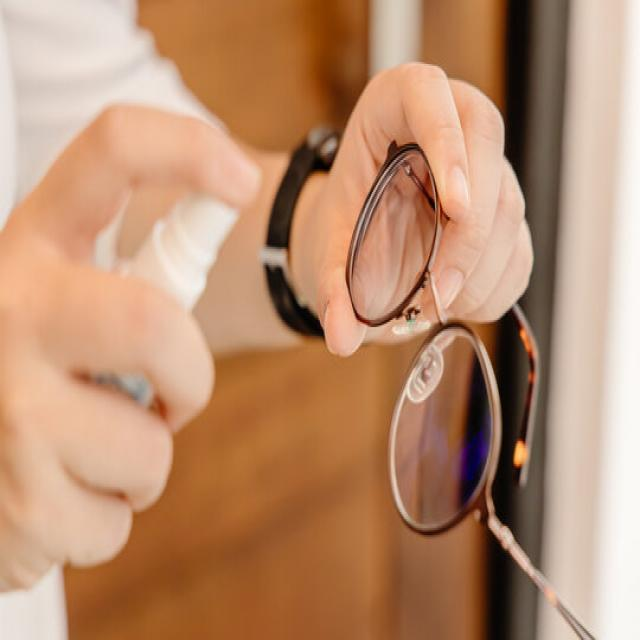glasses: (332, 124, 610, 640)
